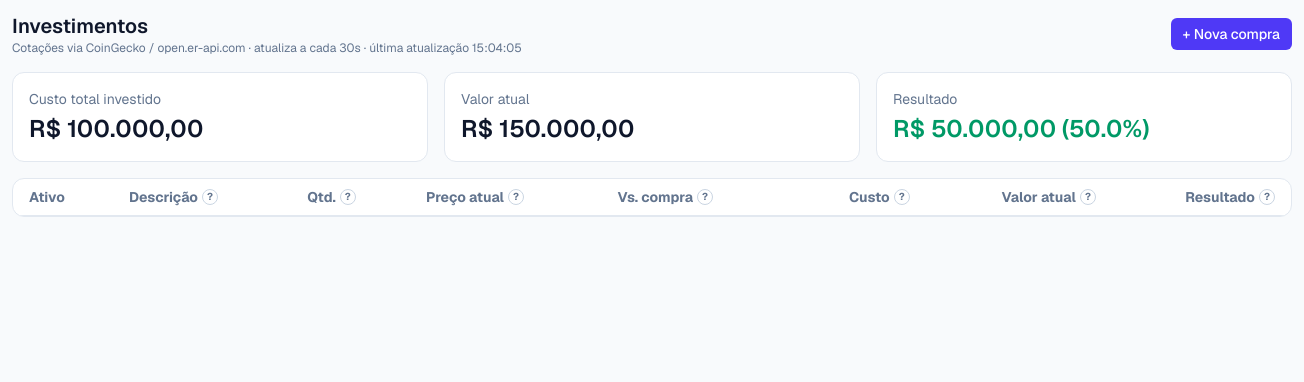
Scenario: página /investimentos — nova compra › abre e fecha pelo mesmo botão
Check: the text "Custo total investido" is shown, box [29, 90, 161, 108]
Click the button "+ Nova compra" at (1231, 34), box [1170, 18, 1292, 50]
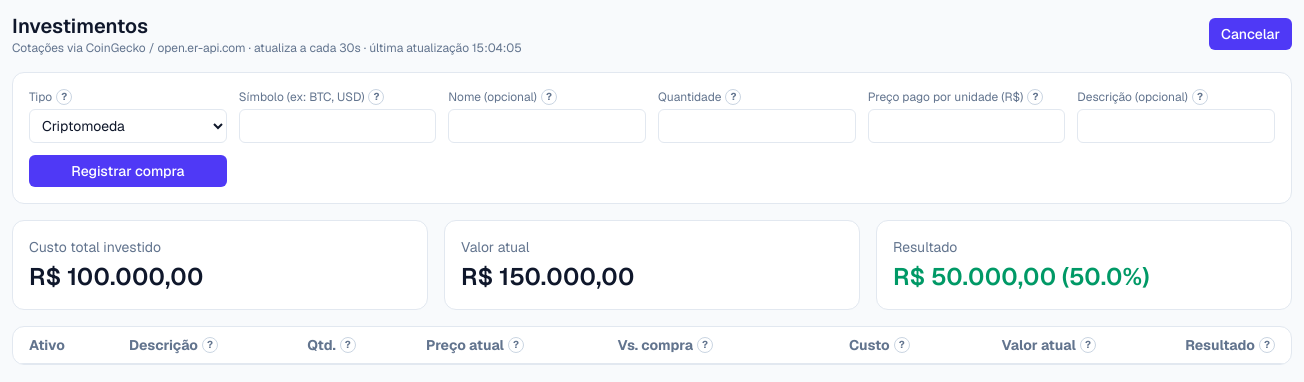
Check: the button "Registrar compra" is shown, box [29, 155, 227, 187]
Click the button "Cancelar" at (1251, 34), box [1209, 18, 1292, 50]
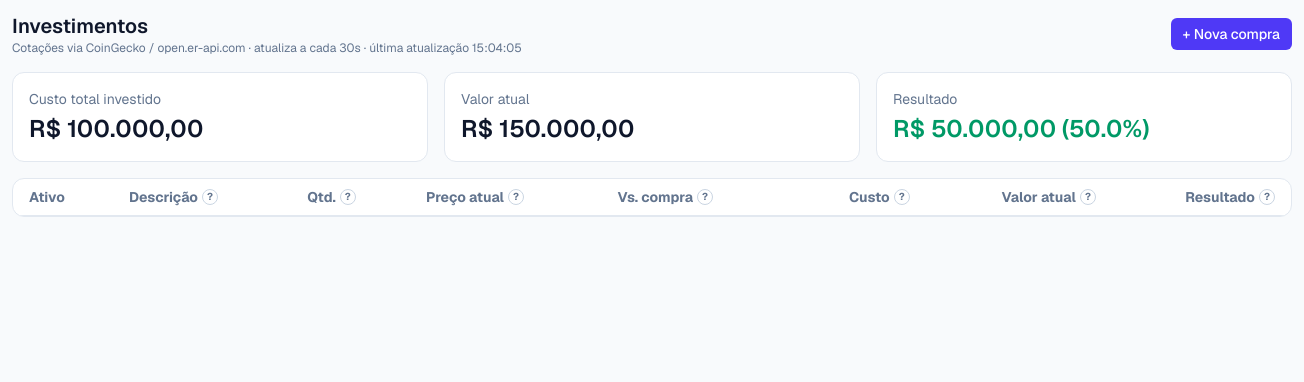
Check: the button "Registrar compra" is gone
